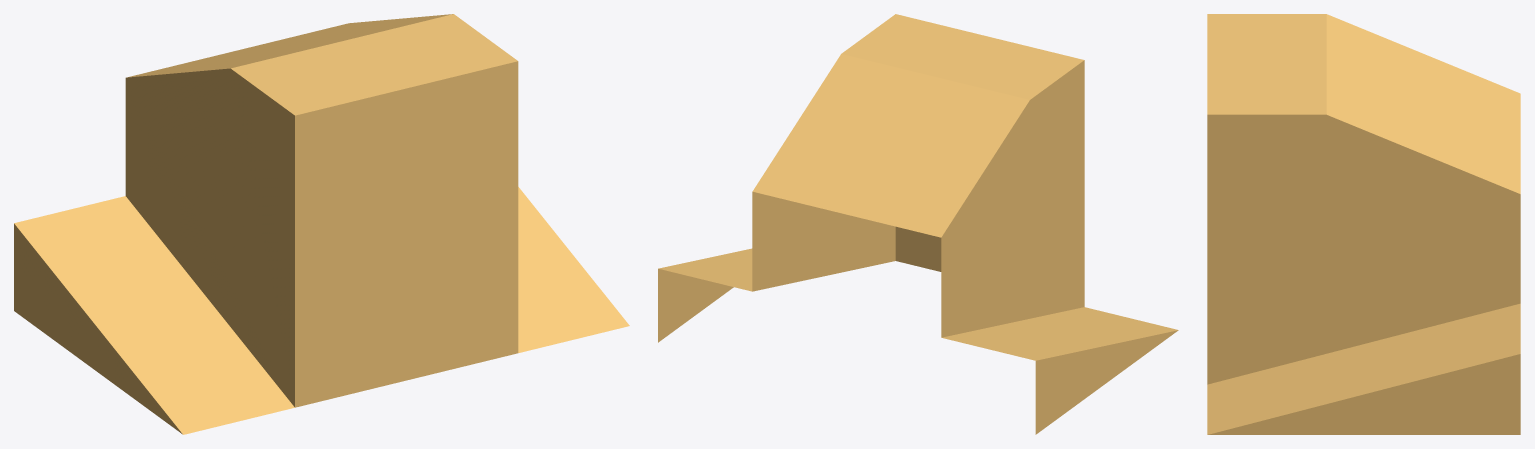
3 renders of one model, left to right at view 1: azimuth 30°, elevation 25°; view 2: azimuth 150°, elevation 25°; view 3: azimuth 270°, elevation 25°, orthographic. The views are drawn at different scales.
Bounding box in the file's own units: 0.8 × 0.5 × 0.5257.
